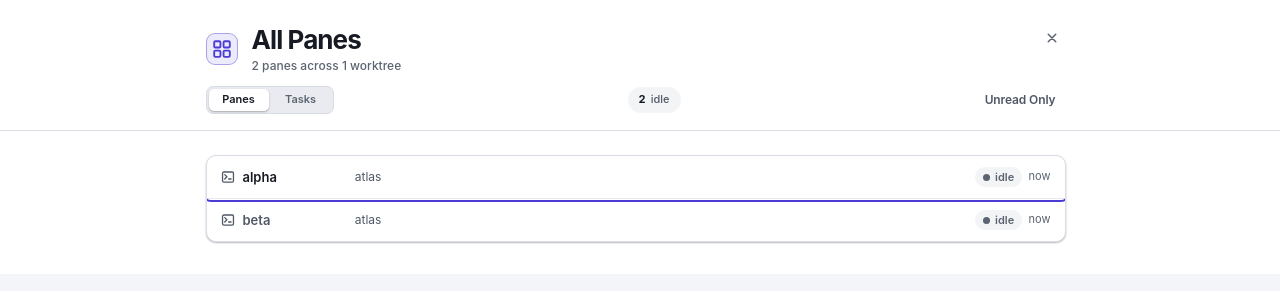
it: the unread filter › goes back to every pane when it is pressed again
This screenshot has width=1280, height=291.
Click the button "Unread Only". click: (1020, 100)
box: [975,87,1066,113]
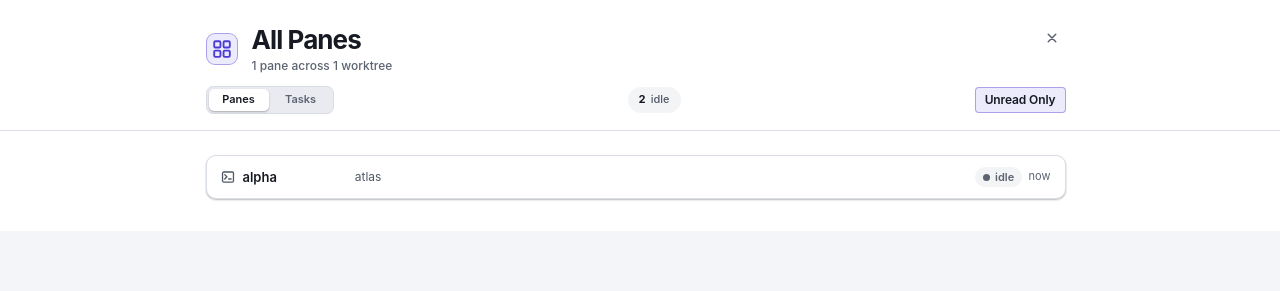
Check: the button "Unread Only" is pressed
Click the button "Unread Only". click: (1020, 100)
box: [975,87,1066,113]
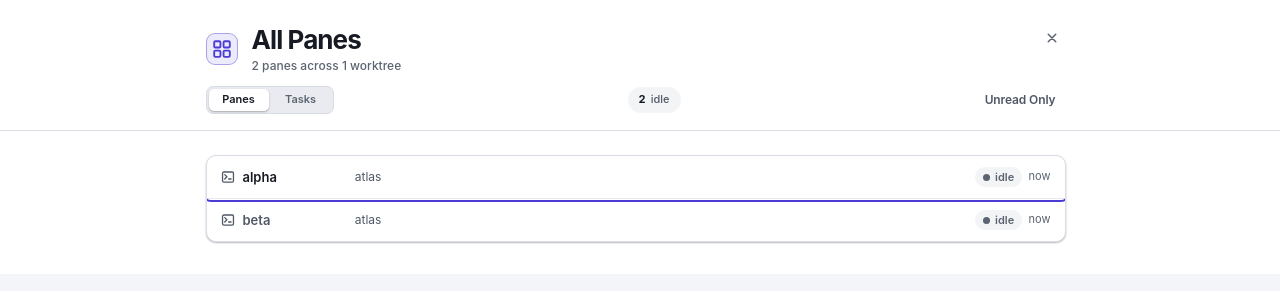
Check: the text "beta" is shown, box [242,211,270,229]
